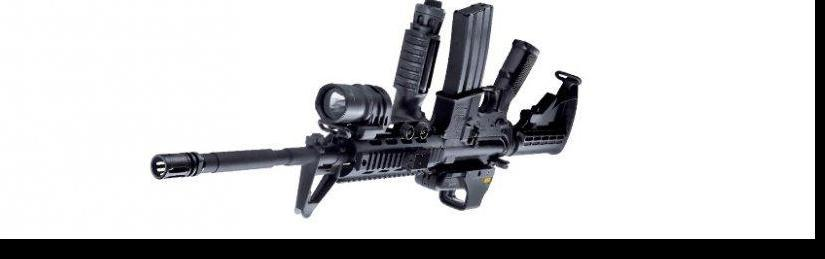larga: (149, 1, 584, 220)
